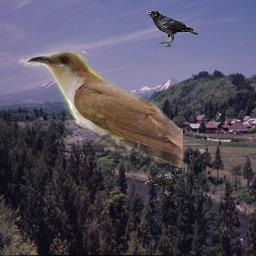Crow: (147, 10, 198, 47), (143, 168, 179, 196)
Cuckoo: (23, 51, 183, 169)
